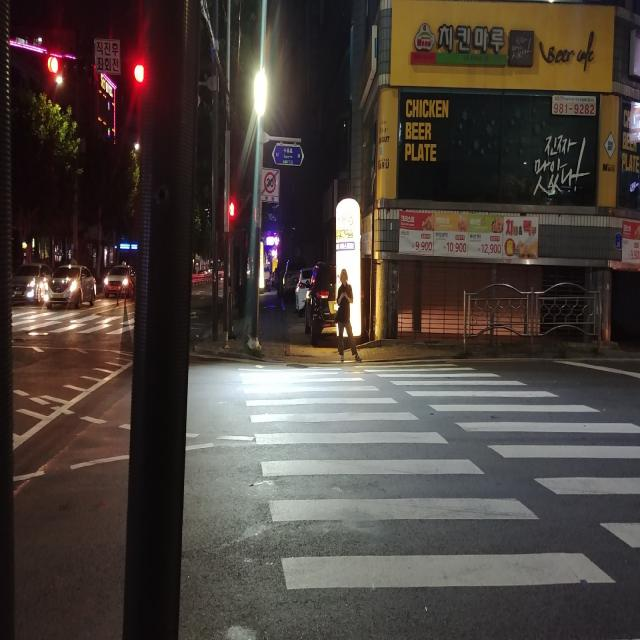횡단보도: (237, 361, 640, 594)
